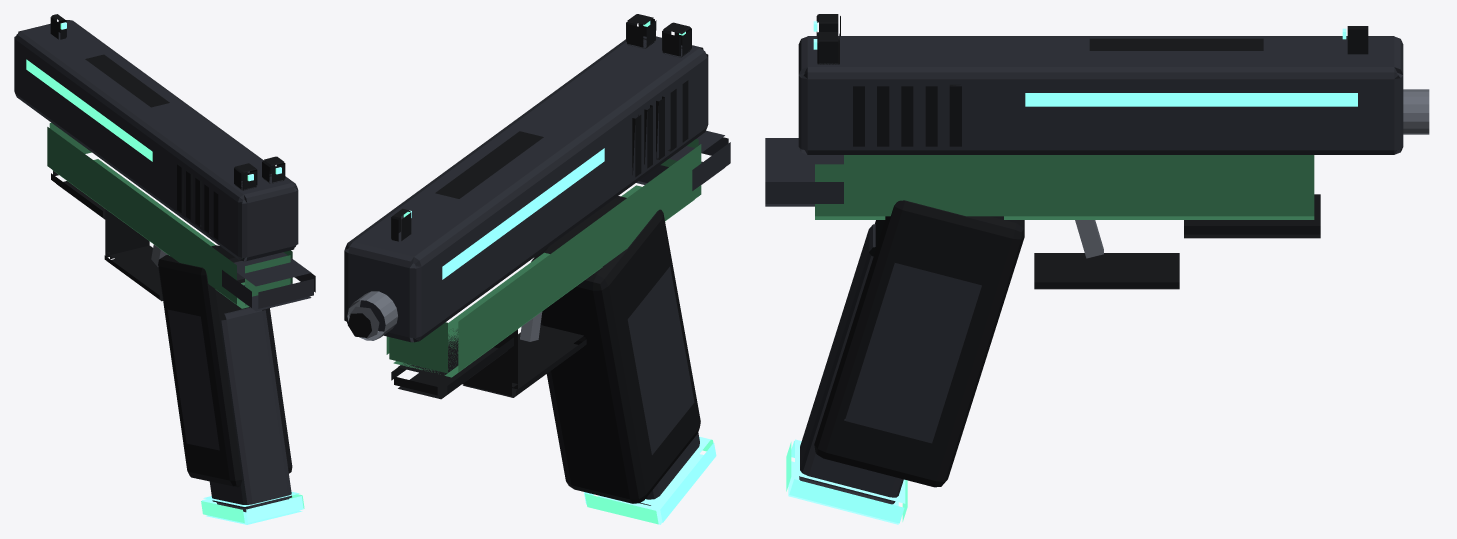
Rendered from pistol_lod.glb.
3 renders of one model, left to right at view 1: azimuth 30°, elevation 25°; view 2: azimuth 150°, elevation 25°; view 3: azimuth 270°, elevation 25°, orthographic. The views are drawn at different scales.
Visible parts, largest first — view 1: Body, Magazine, IronSights; view 2: Body, Magazine, IronSights; view 3: Body, Magazine, IronSights.
Boxes of the visible parts, x1,y1,x2,y2 form: Body: (14,20,315,487); Magazine: (201,307,304,524); IronSights: (50,14,285,190); Body: (344,36,730,503); Magazine: (584,433,716,524); IronSights: (391,14,691,241); Body: (765,36,1429,487); Magazine: (786,224,907,524); IronSights: (813,14,1368,64).
Size of the model in its own units: 0.034 by 0.1751 by 0.226.
